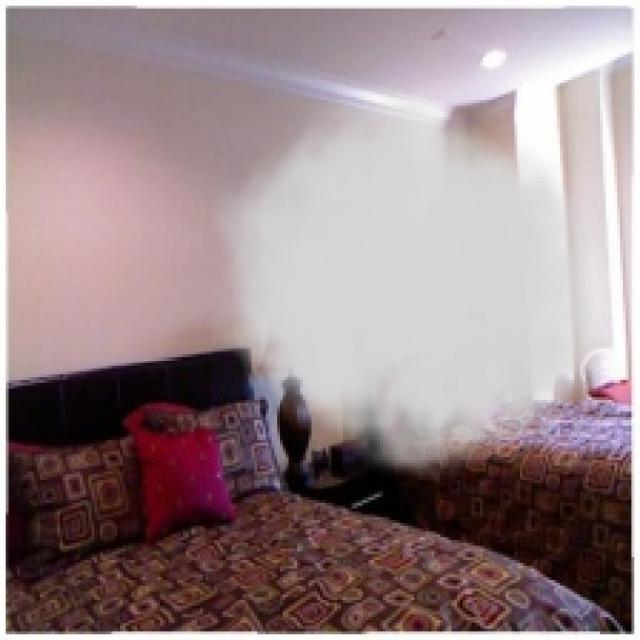Smoke: (211, 77, 623, 492)
